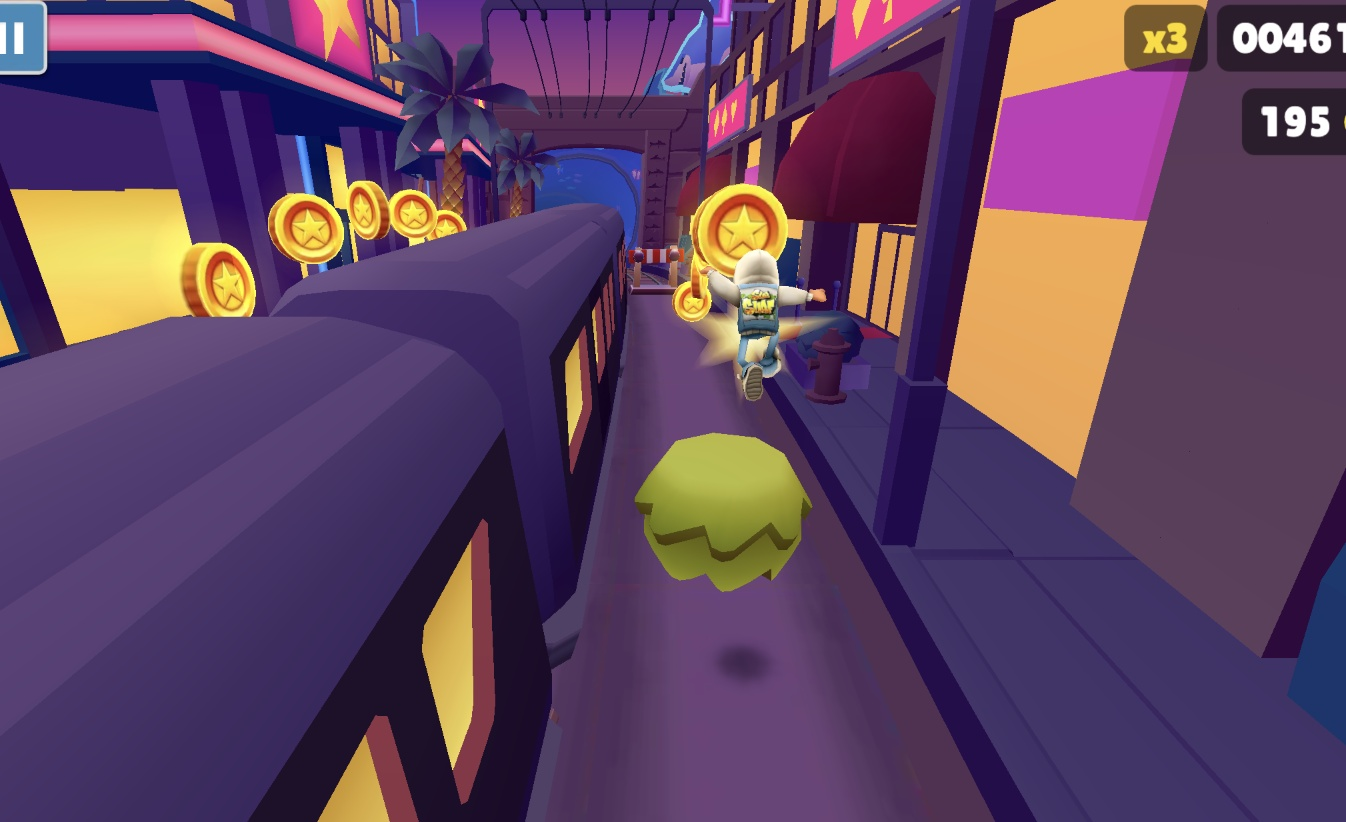bush: (632, 433, 814, 593)
ground_barrier: (627, 249, 690, 296)
train: (0, 204, 627, 822)
